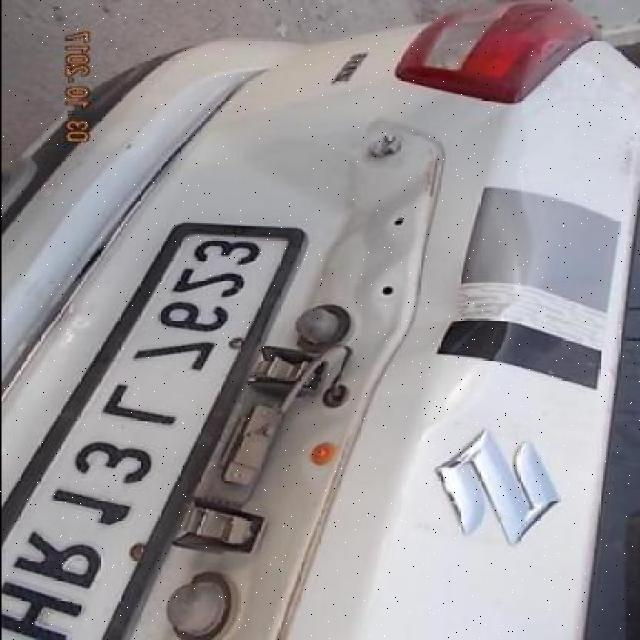damage: (293, 116, 521, 429)
